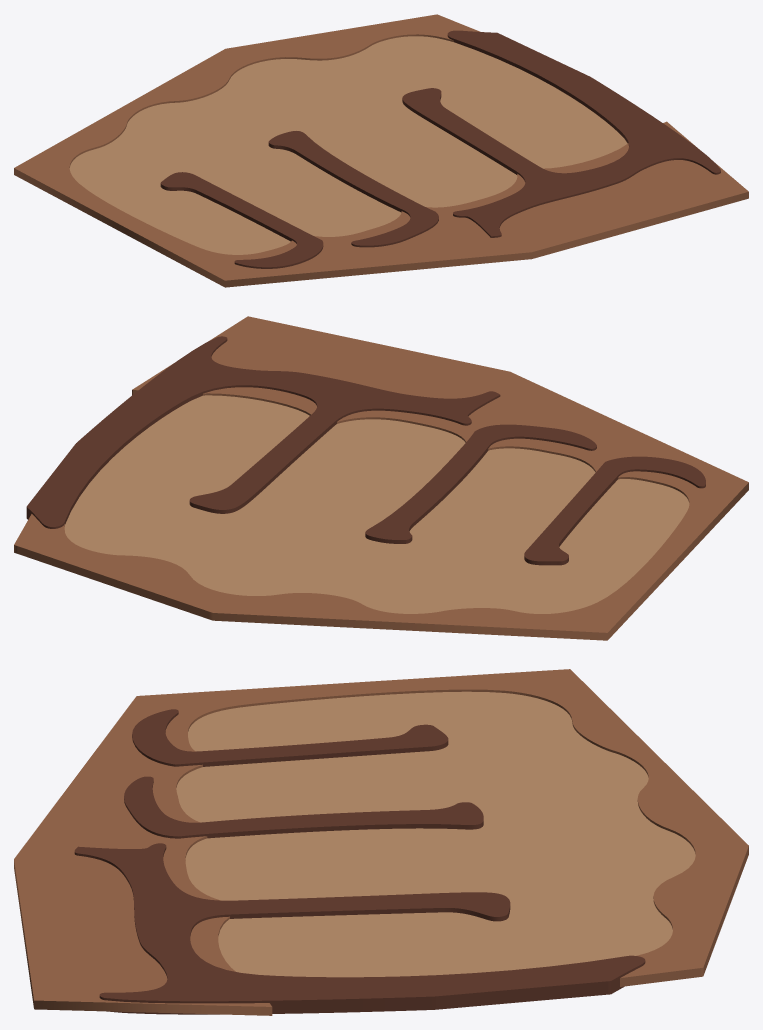
Rendered from emoji_u1f44a_1f3fd.glb.
3 views of the same model, one above another, from view 1: azimuth 30°, elevation 25°; view 2: azimuth 150°, elevation 25°; view 3: azimuth 270°, elevation 25° (orthographic). The views are drawn at different scales.
Parts seen in each view (by area): view 1: emoji_u1f44a_1f3fd; view 2: emoji_u1f44a_1f3fd; view 3: emoji_u1f44a_1f3fd.
Boxes of the visible parts, x1,y1,x2,y2 form: emoji_u1f44a_1f3fd: (14, 14, 748, 287); emoji_u1f44a_1f3fd: (14, 316, 748, 640); emoji_u1f44a_1f3fd: (14, 669, 748, 1015).
Size of the model in its own units: 0.0325 by 0.0006 by 0.0299.
